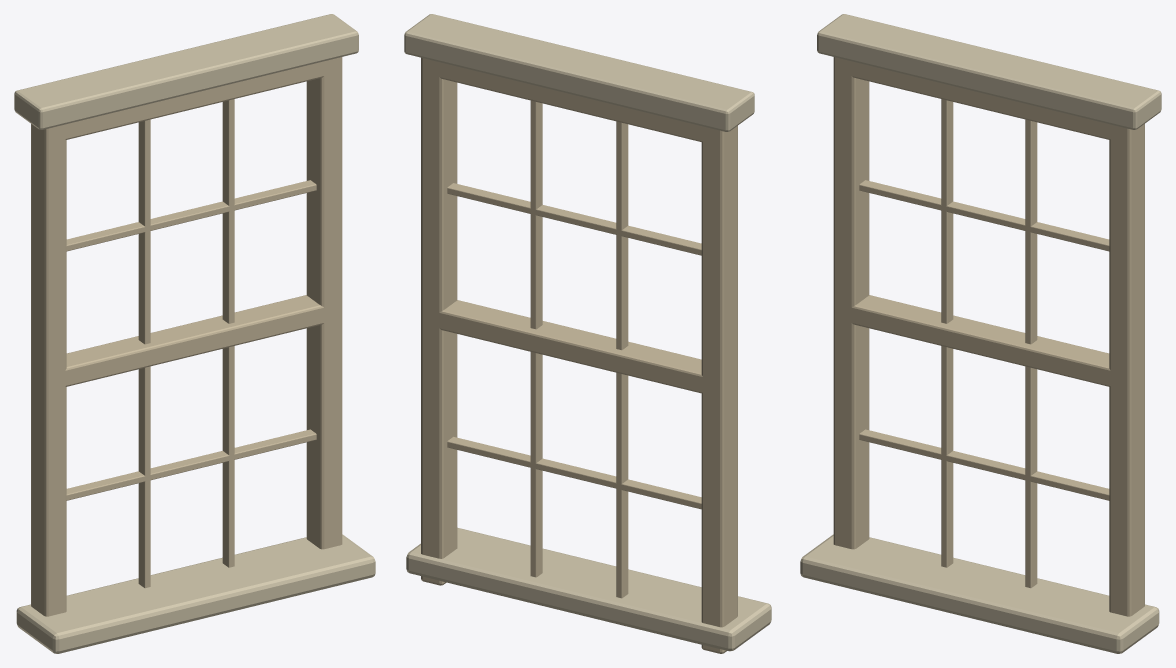
Rendered from sash-window.glb.
The picture shows the model from 3 angles, left to right: view 1: azimuth 30°, elevation 25°; view 2: azimuth 150°, elevation 25°; view 3: azimuth 330°, elevation 25°; orthographic projection.
Parts seen in each view (by area): view 1: sash-window__Visual_matte; view 2: sash-window__Visual_matte; view 3: sash-window__Visual_matte.
Boxes of the visible parts, x1=… form: sash-window__Visual_matte: x1=14, y1=14, x2=375, y2=653; sash-window__Visual_matte: x1=404, y1=14, x2=771, y2=653; sash-window__Visual_matte: x1=800, y1=14, x2=1161, y2=653.
Bounding box in the file's own units: 1.38 × 2.22 × 0.32.
